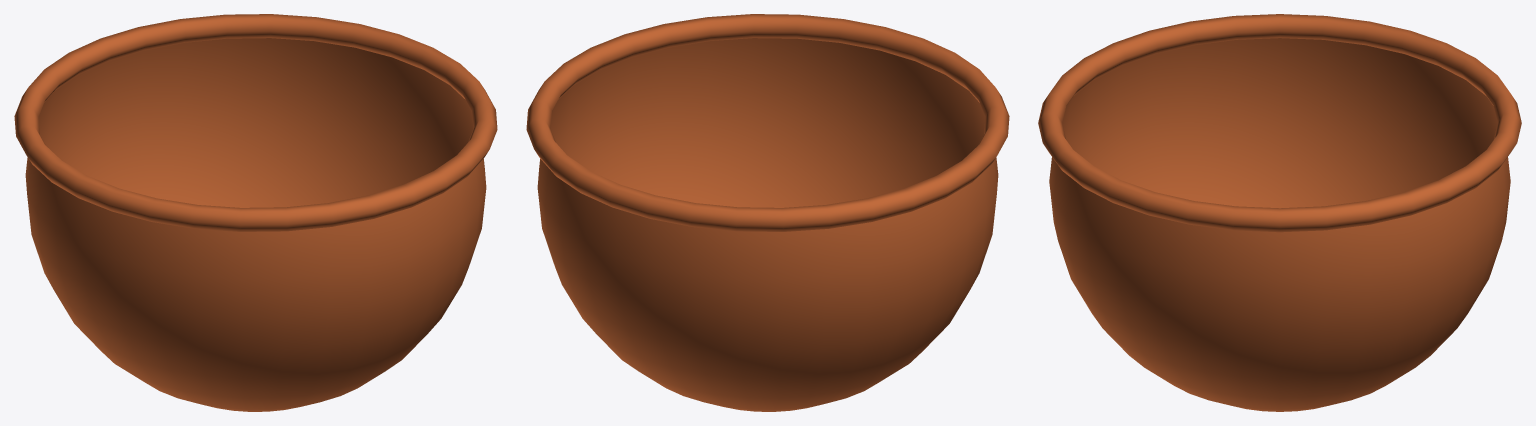
File: Cauldron.FBX
3 renders of one model, left to right at view 1: azimuth 30°, elevation 25°; view 2: azimuth 150°, elevation 25°; view 3: azimuth 270°, elevation 25°, orthographic.
Visible parts, largest first — view 1: Cauldron; view 2: Cauldron; view 3: Cauldron.
Part boxes in pixels (<box>): Cauldron: <box>14,14,497,411</box>; Cauldron: <box>526,14,1009,411</box>; Cauldron: <box>1038,14,1521,411</box>.
Size of the model in its own units: 101 by 101 by 63.57.
